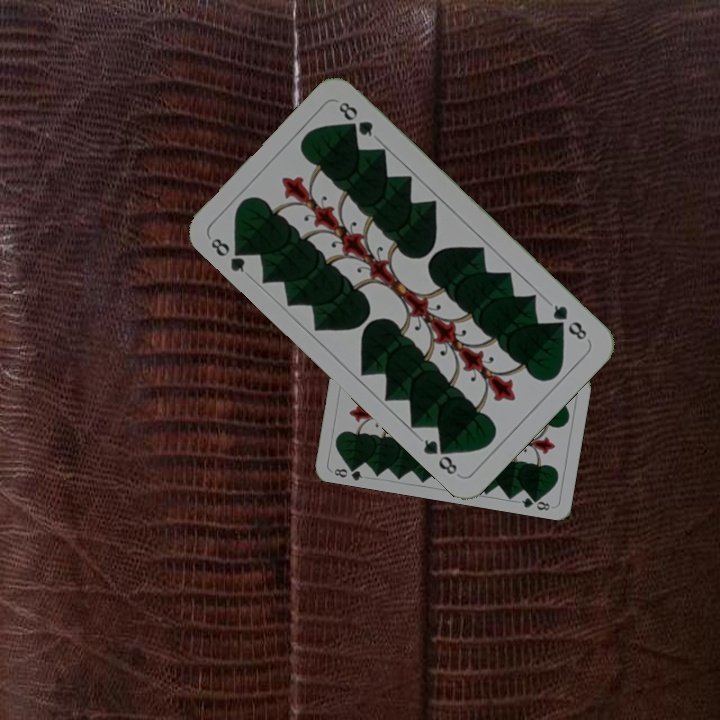G8: (206, 234, 251, 276), (548, 300, 590, 343), (330, 461, 365, 483)
